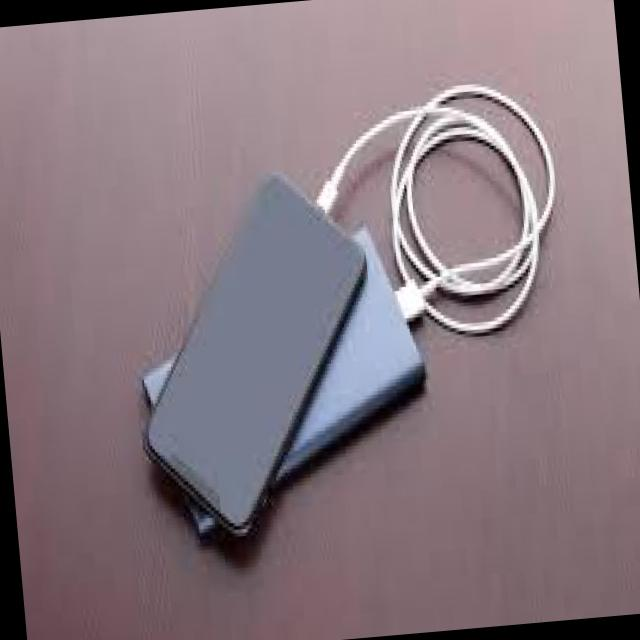portable-charger: (127, 226, 449, 559)
